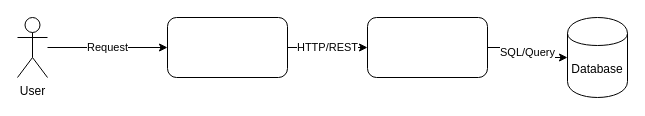
This 645x116 diagram has some shape labels left out. Each missing label, with the centre of its shape:
"API Server" goes at point (427, 47).
"Web Frontend" goes at point (227, 47).
